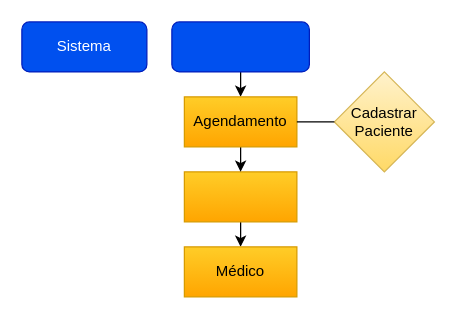
Image size: 456x319. Some labels were removed from this diagram. The centre of each missing label's shape, as x and y in pixels:
Cadastro: the point at 240,46
Paciente: the point at 240,196
